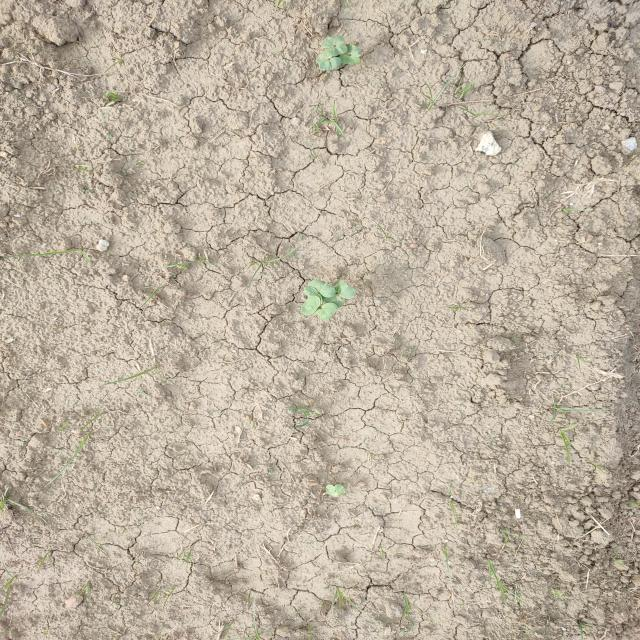seedling: (308, 280, 336, 298), (333, 279, 356, 299), (315, 302, 337, 321), (301, 295, 321, 315), (303, 286, 323, 305), (319, 57, 342, 70), (321, 294, 344, 307), (321, 36, 345, 48), (339, 54, 360, 65), (345, 44, 362, 57), (316, 49, 331, 63), (328, 45, 347, 56), (326, 484, 338, 497), (334, 484, 345, 495)
